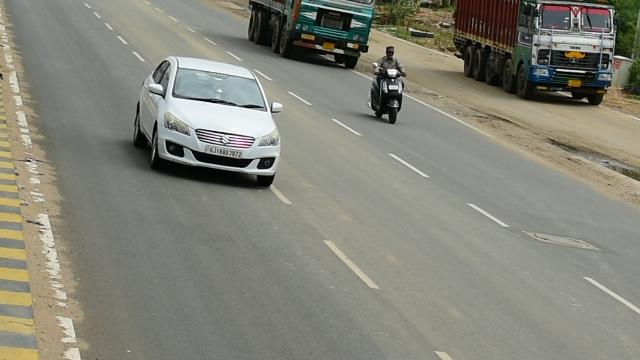Without Helmet: (384, 43, 396, 58)
